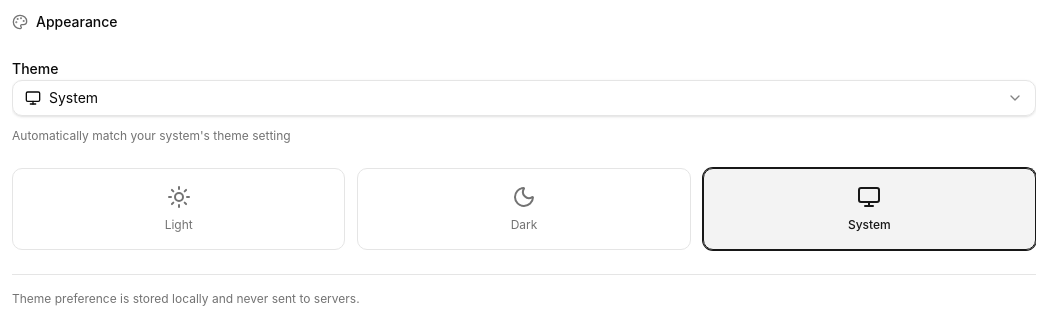
Test case: ThemeSettings › theme selection via buttons › should switch to light theme when light button is clicked
Click the button "Light". click: (179, 209)
box: [12, 168, 345, 250]
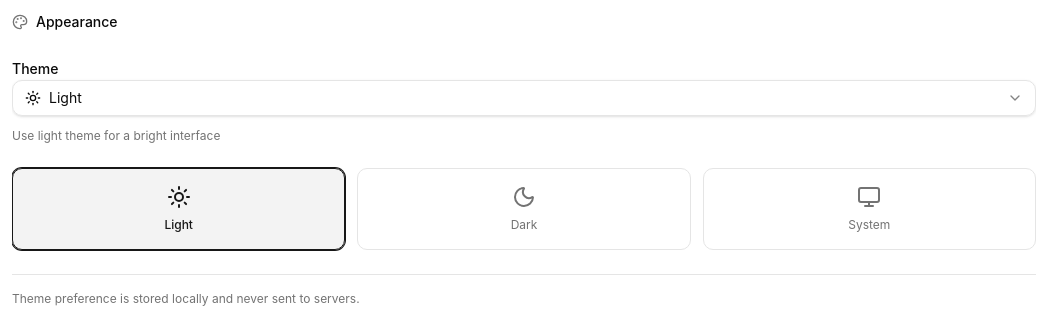
Result: the text "Use light theme for a bright interface" is shown at [12, 128, 220, 143]
